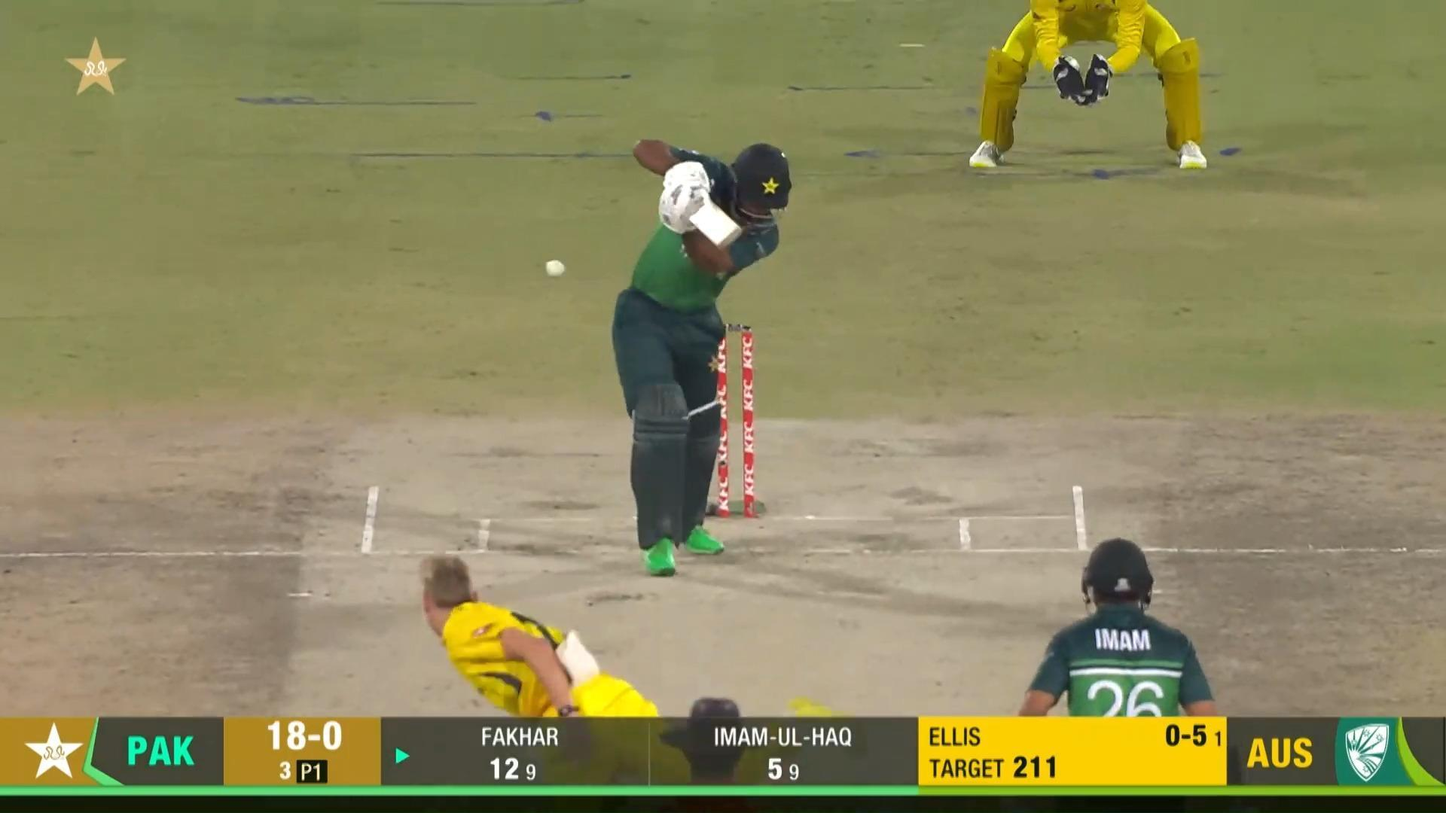BM 1: (610, 136, 794, 579)
BO: (420, 553, 659, 718)
